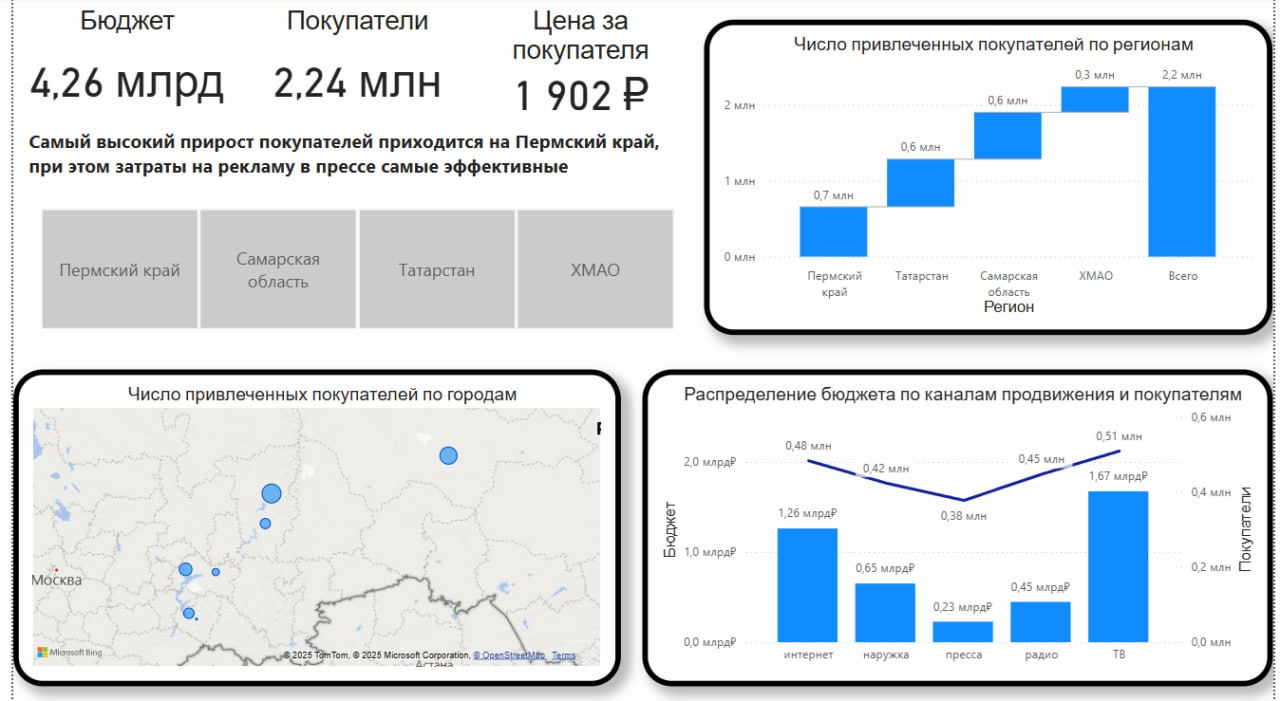

This screenshot's page, from the dashboard's own definition file:
{"tool":"powerbi","page":{"name":"Ver 2","canvas":[1280,720],"ordinal":1},"visuals":[{"type":"waterfallChart","title":"Число привлеченных покупателей по регионам","fields":{"Y":["Sum(Бюджет.Число привлеченных покупателей)"],"Category":["Бюджет.Регион"]},"box":[702.1,22.9,577.9,320.9],"z":0},{"type":"map","title":" Число привлеченных покупателей по городам","fields":{"Category":["Лист1.Город"],"Size":["Sum(Лист1.Число привлеченных покупателей)"]},"box":[0,378.7,617.5,322.5],"z":1000},{"type":"slicer","fields":{"Values":["Бюджет.Регион"]},"box":[2.7,208.6,693,135.8],"z":2000},{"type":"card","title":"Бюджет","fields":{"Values":["Sum(Бюджет.Бюджет)"]},"box":[0,8.4,231.6,120.6],"z":3000},{"type":"card","title":" Покупатели","fields":{"Values":["Sum(Лист1.Число привлеченных покупателей)"]},"box":[231.6,8.4,236.5,120.6],"z":4000},{"type":"card","title":"Цена за  покупателя","fields":{"Values":["Бюджет.Сумма Бюджет разделить на Сумма Число привлеченных покупателей"]},"box":[460.9,8.4,231.6,120.6],"z":5000},{"type":"lineClusteredColumnComboChart","title":"Распределение бюджета по каналам продвижения и покупателям","fields":{"Category":["КаналыПорядок.Канал"],"Y2":["Sum(Бюджет.Число привлеченных покупателей)"],"Y":["Sum(Бюджет.Бюджет)"]},"box":[639.5,378.7,640.8,322.5],"z":6000},{"type":"textbox","box":[11,129,682,68.6],"z":6001}]}

Visuals, with their boxes in screenshot pixels (x1, y1, x2, y2), scaled from the page's 1280x720 canvas onto the 1280x701 screenshot:
"Число привлеченных покупателей по регионам" waterfallChart: {"left": 702, "top": 22, "right": 1279, "bottom": 335}
" Число привлеченных покупателей по городам" map: {"left": 0, "top": 369, "right": 618, "bottom": 683}
slicer - Бюджет.Регион: {"left": 3, "top": 203, "right": 696, "bottom": 335}
"Бюджет" card: {"left": 0, "top": 8, "right": 232, "bottom": 126}
" Покупатели" card: {"left": 232, "top": 8, "right": 468, "bottom": 126}
"Цена за  покупателя" card: {"left": 461, "top": 8, "right": 692, "bottom": 126}
"Распределение бюджета по каналам продвижения и покупателям" lineClusteredColumnComboChart: {"left": 640, "top": 369, "right": 1279, "bottom": 683}
textbox: {"left": 11, "top": 126, "right": 693, "bottom": 192}
